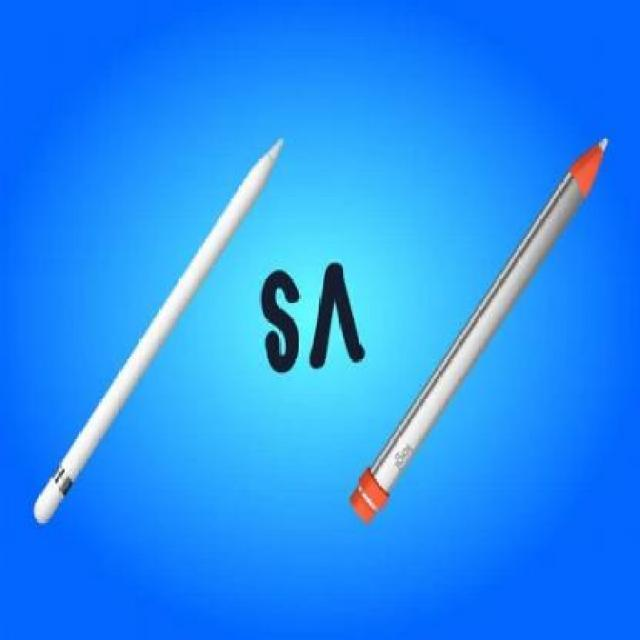Pencil: (553, 130, 610, 222), (232, 133, 286, 224)
